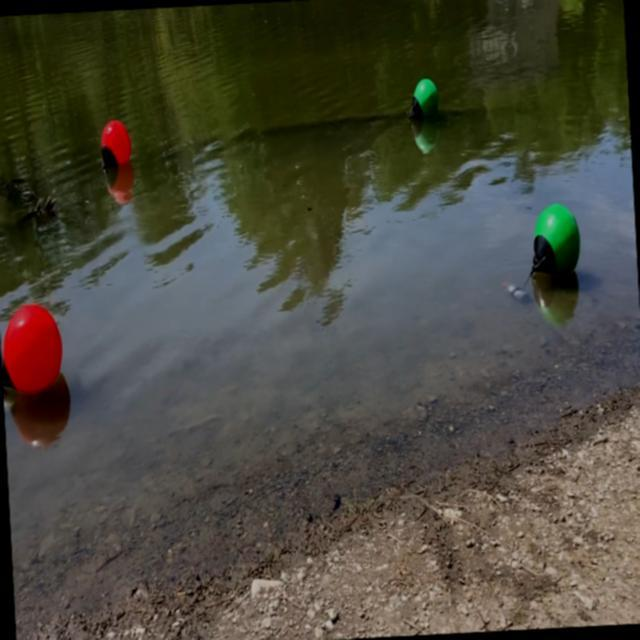buoy: (0, 297, 67, 398), (524, 198, 584, 281), (98, 116, 133, 176), (407, 74, 442, 124)
